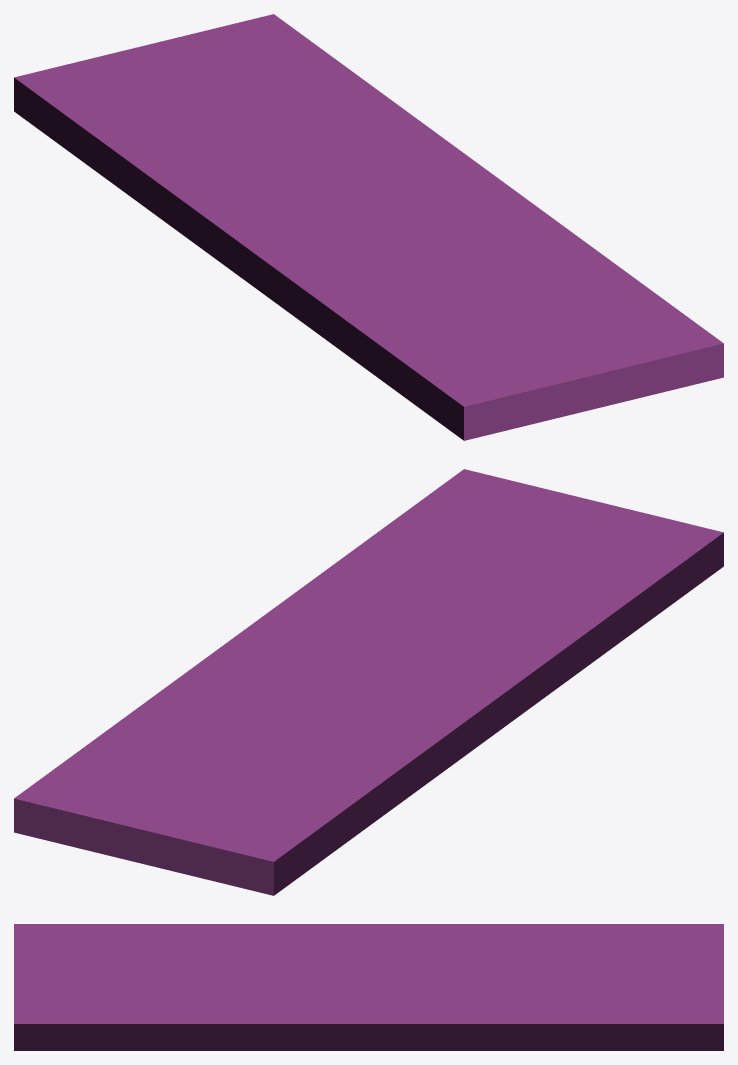
The model's file is cuboRosa_3.FBX.
3 views of the same model, one above another, from view 1: azimuth 30°, elevation 25°; view 2: azimuth 150°, elevation 25°; view 3: azimuth 270°, elevation 25° (orthographic). The views are drawn at different scales.
Visible parts, largest first — view 1: Box001; view 2: Box001; view 3: Box001.
Boxes of the visible parts, x1,y1,x2,y2 form: Box001: [14, 14, 723, 440]; Box001: [14, 469, 723, 895]; Box001: [14, 924, 723, 1050].
Bounding box in the file's own units: 2 × 0.25 × 6.
